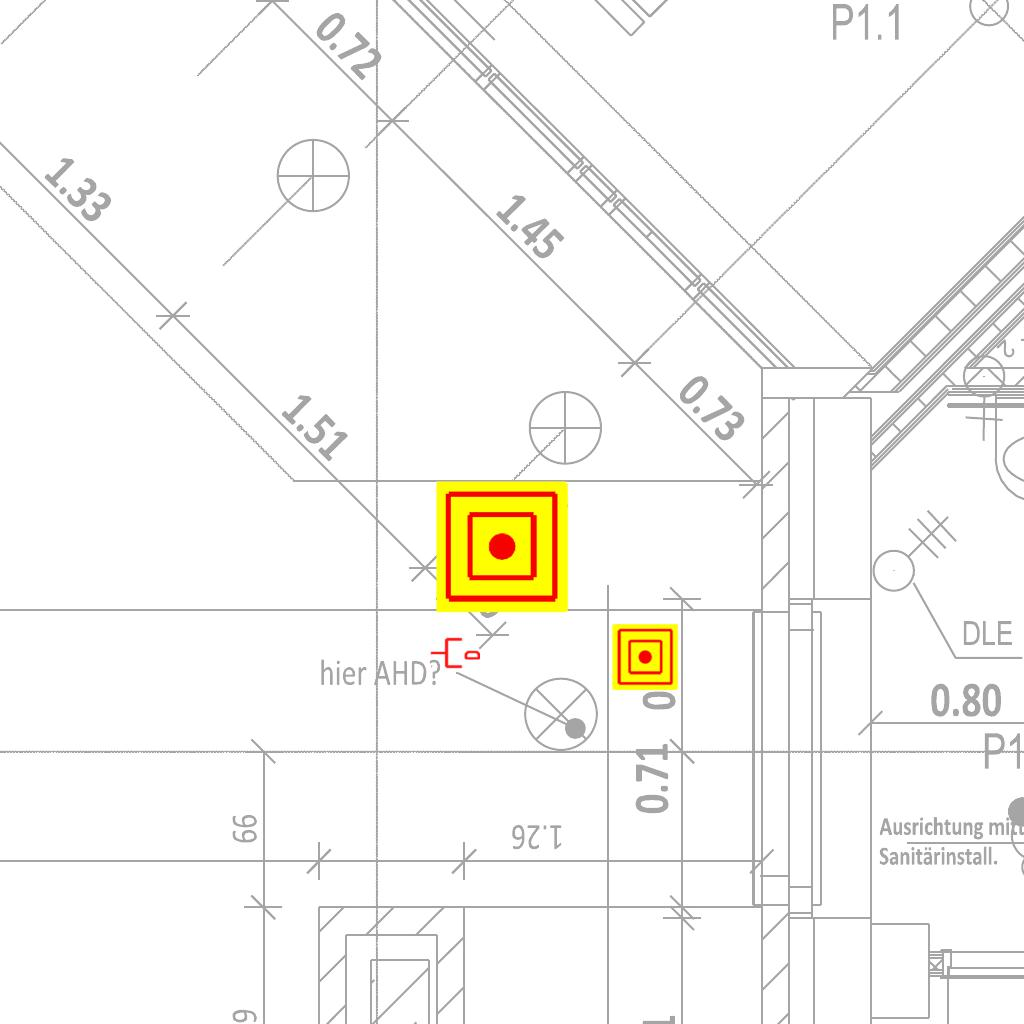Datenanschluss_einfach: (430, 636, 480, 670)
NAM-Nichtautomatischer_Melder: (436, 481, 568, 613), (612, 624, 678, 690)
